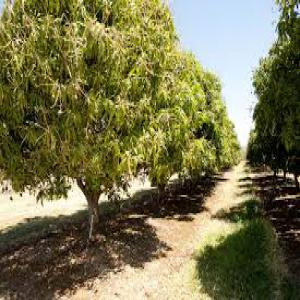Tree: (1, 0, 179, 231), (157, 44, 244, 202)
